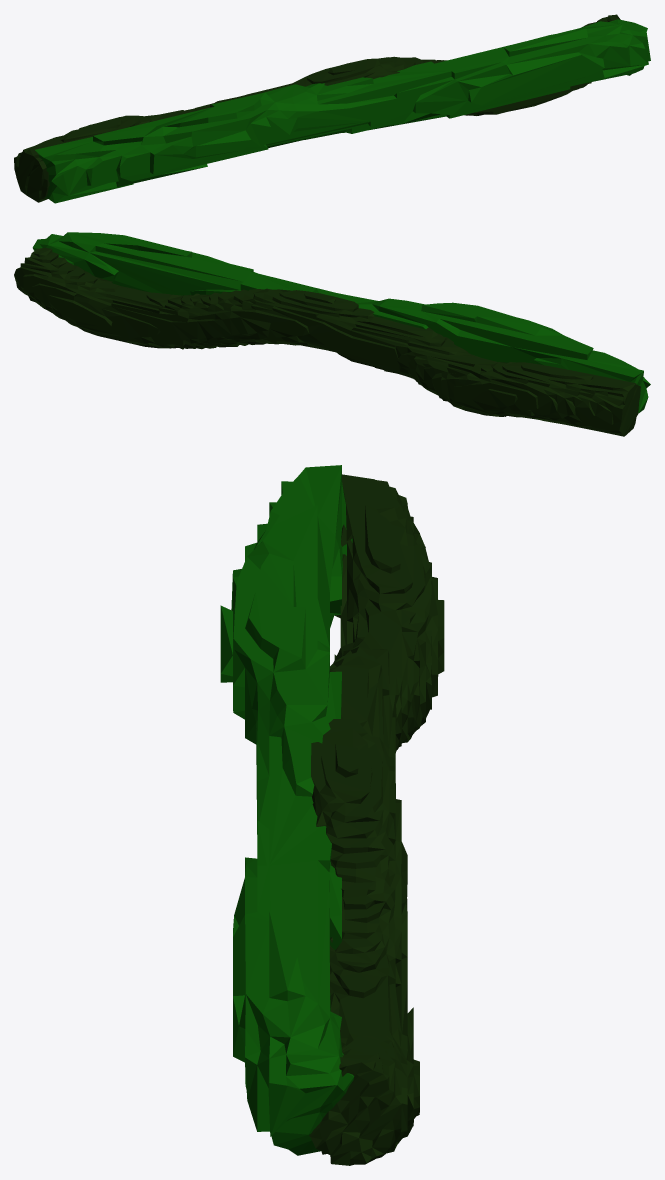
The model's file is Platform2.fbx.
3 renders of one model, top to bottom at view 1: azimuth 30°, elevation 25°; view 2: azimuth 150°, elevation 25°; view 3: azimuth 270°, elevation 25°, orthographic. The views are drawn at different scales.
Parts seen in each view (by area): view 1: BezierCurve.015, BezierCurve.016; view 2: BezierCurve.016, BezierCurve.015; view 3: BezierCurve.015, BezierCurve.016.
Part boxes in pixels (x1=…): BezierCurve.015: x1=35, y1=19, x2=650, y2=203; BezierCurve.016: x1=14, y1=14, x2=620, y2=202; BezierCurve.016: x1=14, y1=247, x2=640, y2=436; BezierCurve.015: x1=32, y1=232, x2=650, y2=413; BezierCurve.015: x1=220, y1=465, x2=354, y2=1155; BezierCurve.016: x1=309, y1=474, x2=444, y2=1165.
Bounding box in the file's own units: 6.21 × 0.886 × 0.9864.
